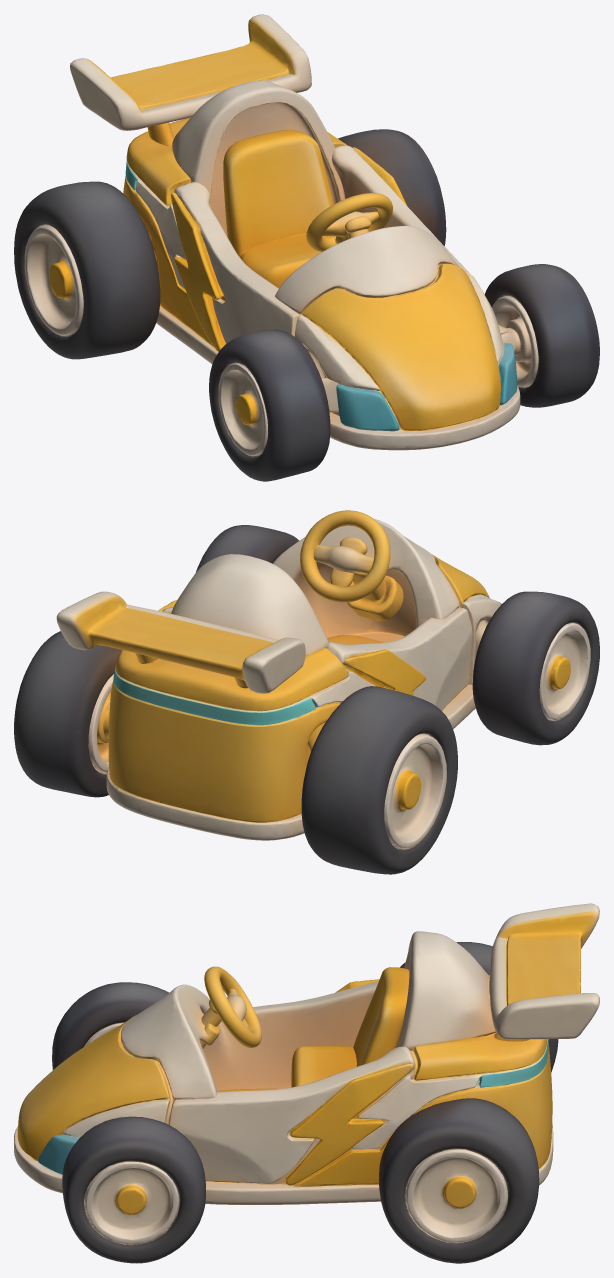
Rendered from bolt-cartoon-source.glb.
The picture shows the model from 3 angles, top to bottom: view 1: azimuth 30°, elevation 25°; view 2: azimuth 150°, elevation 25°; view 3: azimuth 270°, elevation 25°; orthographic projection. The views are drawn at different scales.
Visible parts, largest first — view 1: model; view 2: model; view 3: model.
Boxes of the visible parts, <box> form: model: <box>14,14,599,481</box>; model: <box>14,510,599,874</box>; model: <box>14,903,599,1263</box>.
Size of the model in its own units: 1.36 by 0.8885 by 1.9.
Materials: 1 (1 with a texture image).
